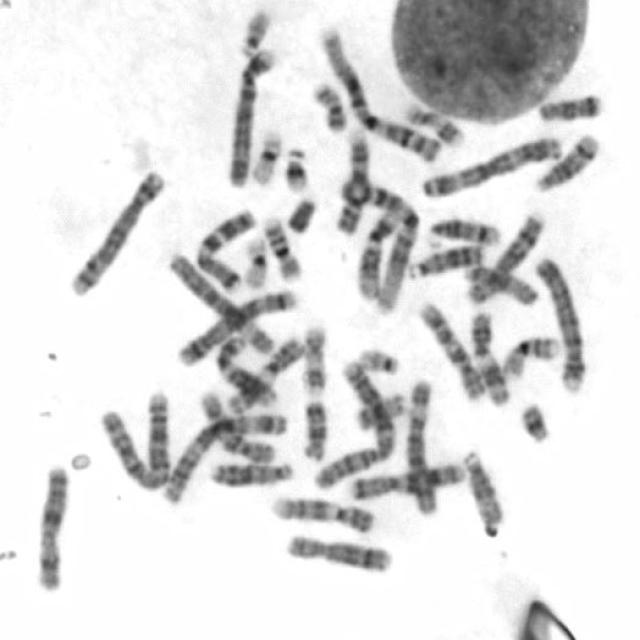A1: (315, 20, 445, 164), (334, 171, 422, 313)
A2: (307, 353, 397, 493), (92, 384, 174, 493)
A3: (156, 407, 291, 507), (416, 132, 564, 200)
B4: (529, 249, 590, 394), (222, 42, 278, 190)
B5: (64, 161, 166, 299), (172, 282, 302, 367)
C10: (414, 296, 486, 403), (194, 386, 279, 465)
C11: (221, 331, 305, 416), (468, 306, 513, 404)
C12: (210, 331, 280, 409), (352, 205, 399, 300)
C6: (164, 246, 278, 355), (401, 375, 442, 519)
C7: (190, 202, 258, 292), (346, 454, 468, 501)
C8: (463, 206, 546, 307), (281, 529, 396, 576)
C9: (265, 492, 376, 536), (332, 122, 372, 237)
D13: (204, 454, 298, 490), (403, 240, 482, 280)
D14: (530, 128, 602, 195), (422, 212, 504, 248)
D15: (458, 443, 503, 533), (459, 258, 540, 306)
E16: (497, 330, 562, 381), (259, 211, 305, 282)
E17: (398, 97, 468, 148), (297, 319, 330, 397)
E18: (534, 88, 604, 124), (297, 394, 330, 464)
F19: (246, 124, 284, 186), (238, 233, 270, 291)
F20: (351, 386, 409, 432), (307, 76, 349, 134)
G21: (514, 396, 555, 446), (280, 140, 312, 194)
G22: (235, 4, 272, 58), (352, 341, 402, 376)
X: (31, 457, 73, 595)
Y: (282, 192, 320, 234)
